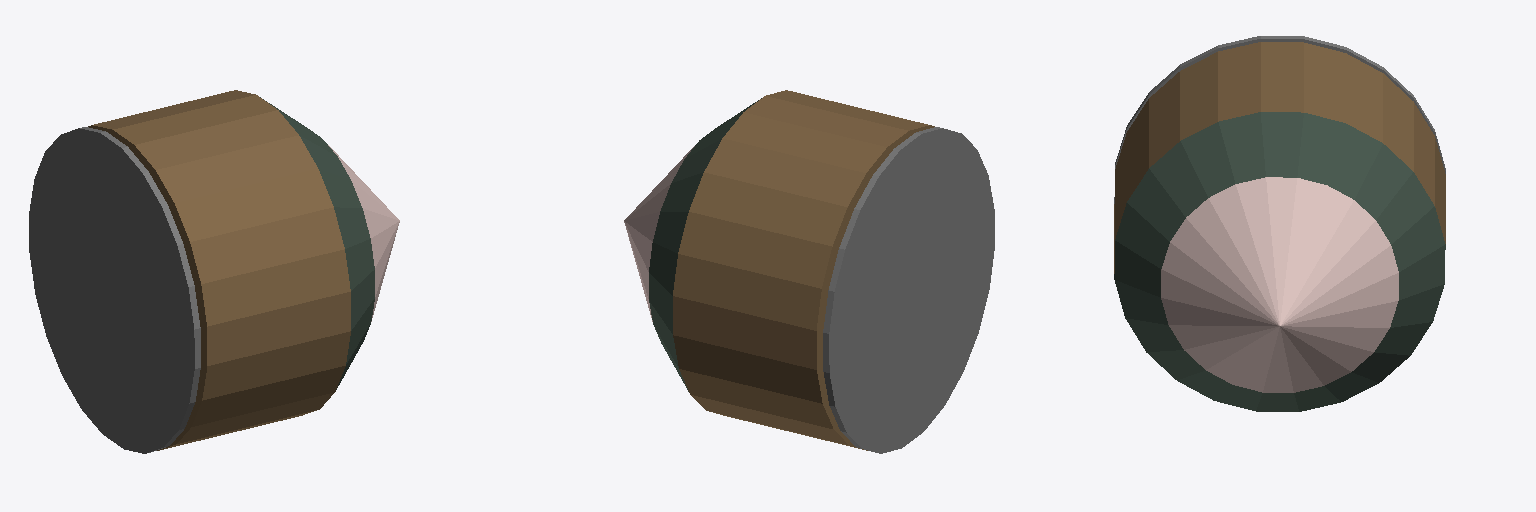
3 renders of one model, left to right at view 1: azimuth 30°, elevation 25°; view 2: azimuth 150°, elevation 25°; view 3: azimuth 270°, elevation 25°, orthographic.
Visible parts, largest first — view 1: Mesh1 Group1 Model; view 2: Mesh1 Group1 Model; view 3: Mesh1 Group1 Model.
Part boxes in pixels (x1,y1,x2,y2): Mesh1 Group1 Model: (29, 90, 399, 453); Mesh1 Group1 Model: (624, 90, 994, 453); Mesh1 Group1 Model: (1114, 36, 1445, 411).
Bounding box in the file's own units: 5.14 × 5.12 × 5.12.
Materials: 6 (5 with a texture image).